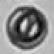correct: (2, 3, 48, 49)
